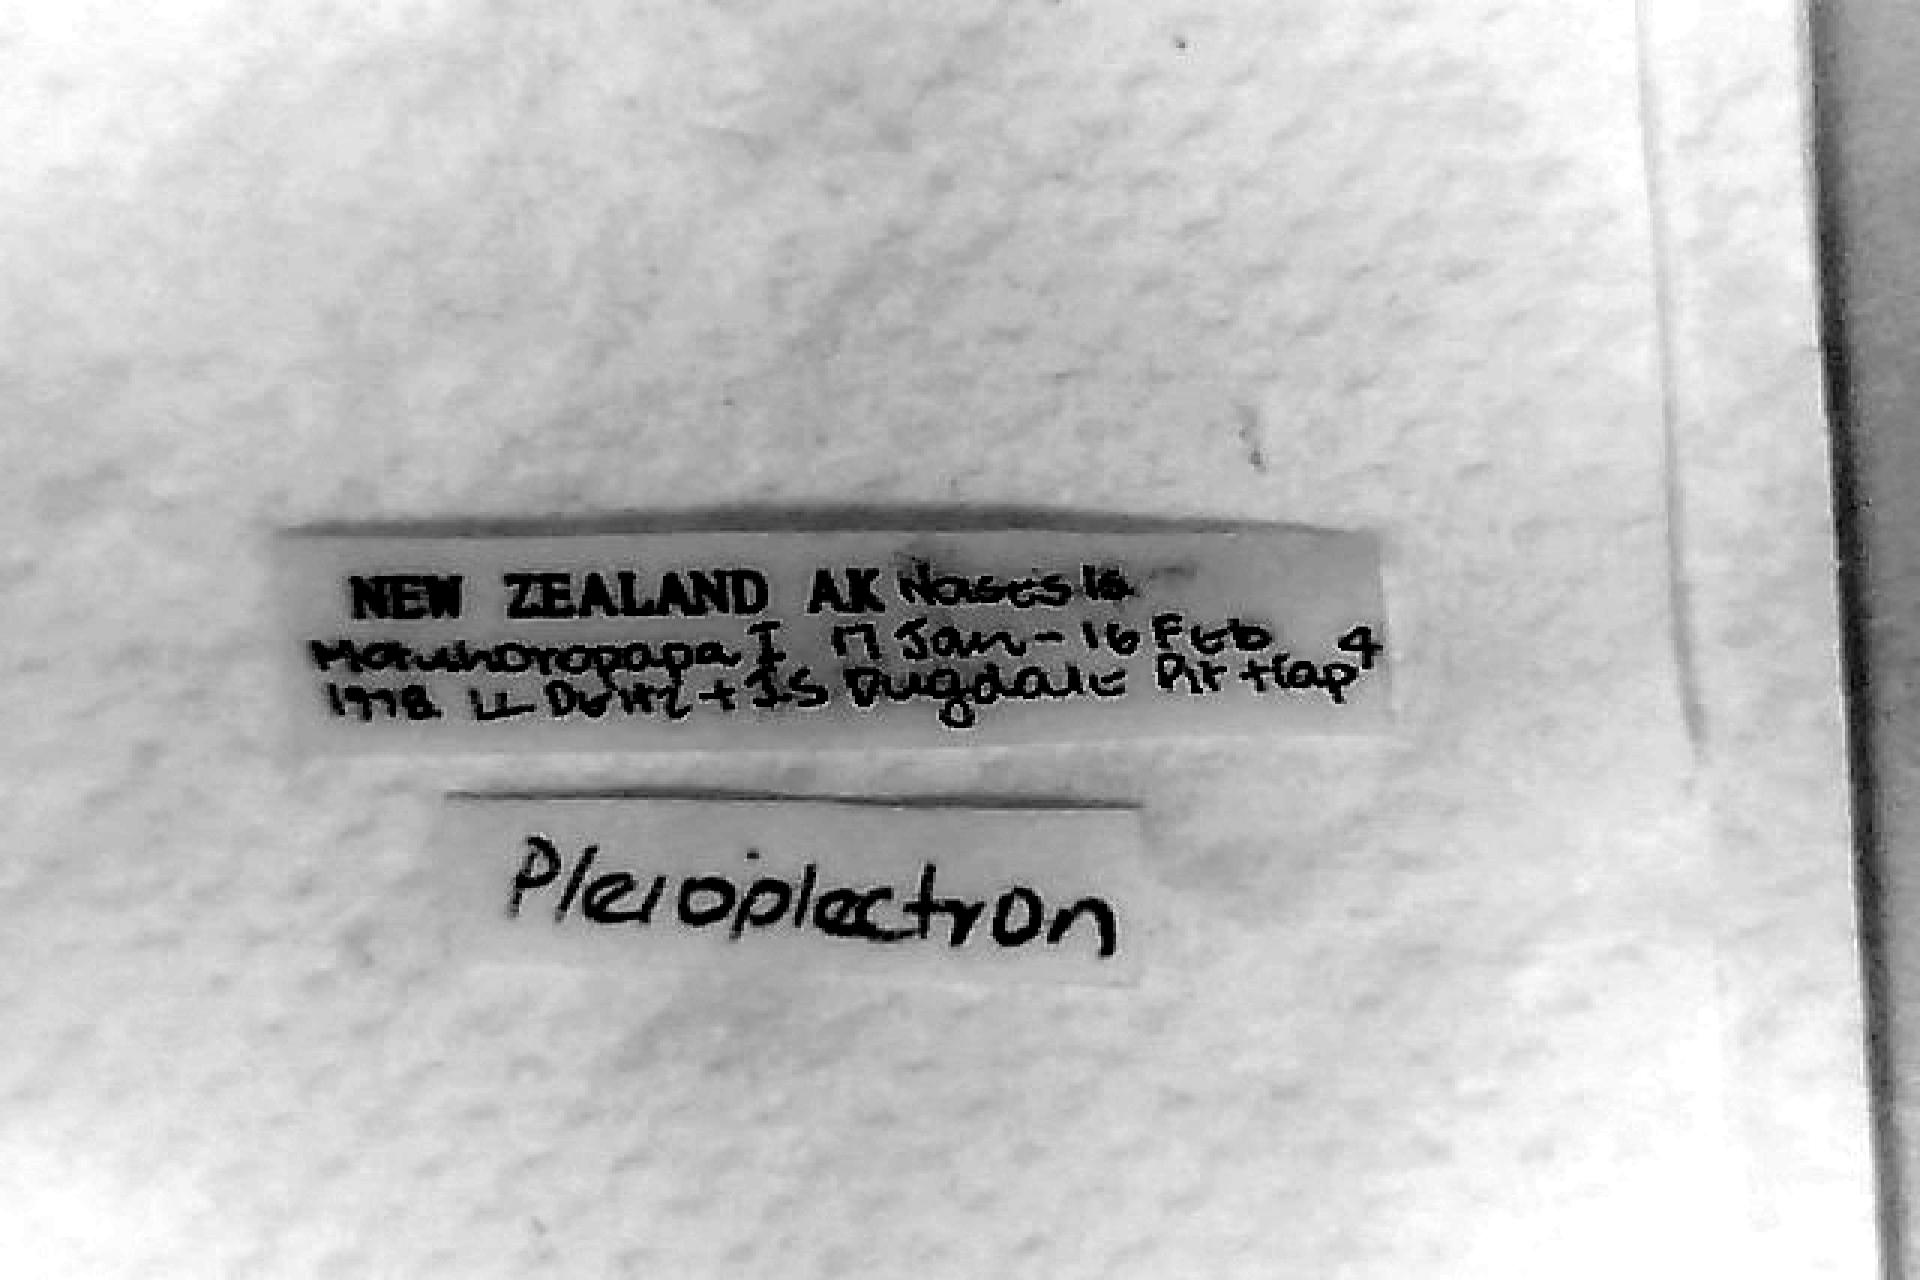hand_label: (443, 793, 1140, 981)
mixed_label: (281, 510, 1387, 747)
